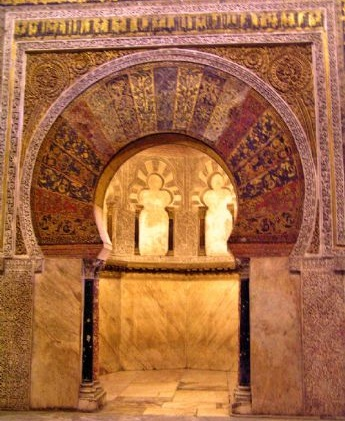arco-herradura: (75, 120, 260, 274)
